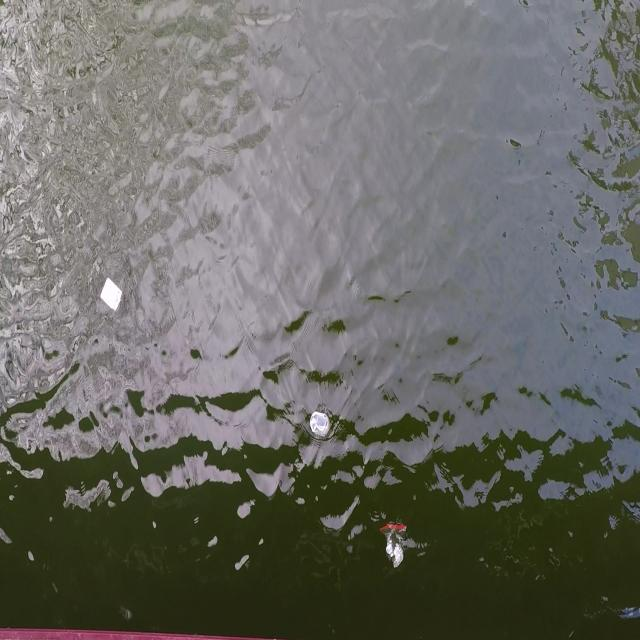Autre plastique: (98, 271, 124, 319), (307, 408, 333, 440)
Sac plastique: (379, 514, 410, 572)
